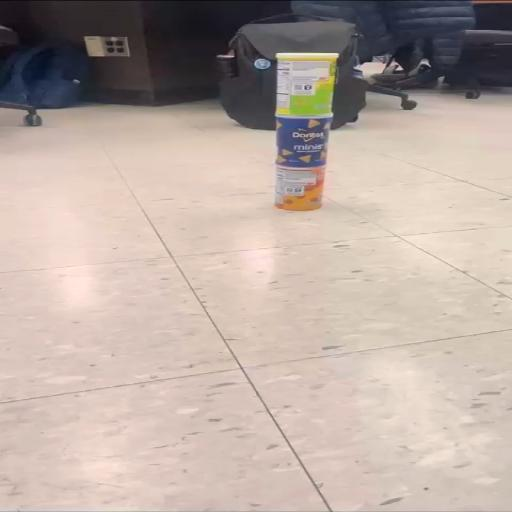pringles: (277, 53, 339, 116), (277, 117, 331, 167), (276, 166, 325, 210)
